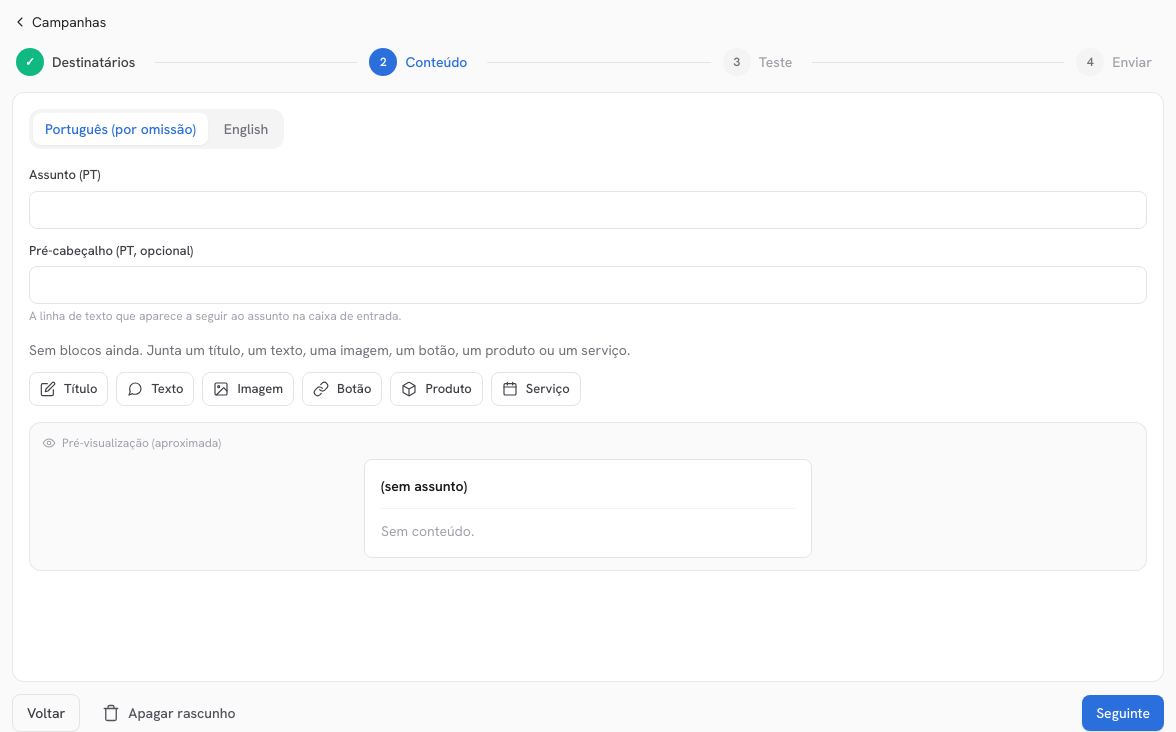
Test case: Nova campanha — passo 2, conteúdo › URL que não é https é recusada no cliente e trava o «Seguinte»
Click the button with aria-label "Adicionar botão". click: (342, 389)
box: left=302, top=372, right=382, bottom=406
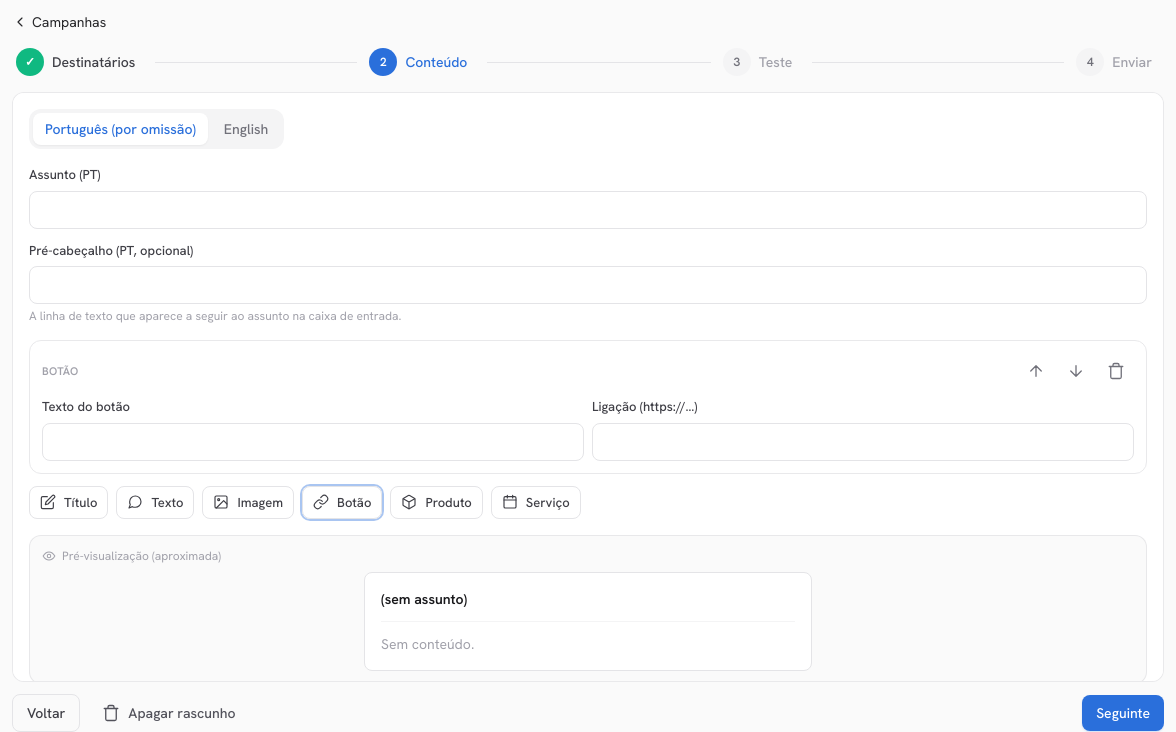
Type "Reservar" into the field labelled "Texto do botão". click: (313, 442)
box: left=42, top=422, right=584, bottom=460
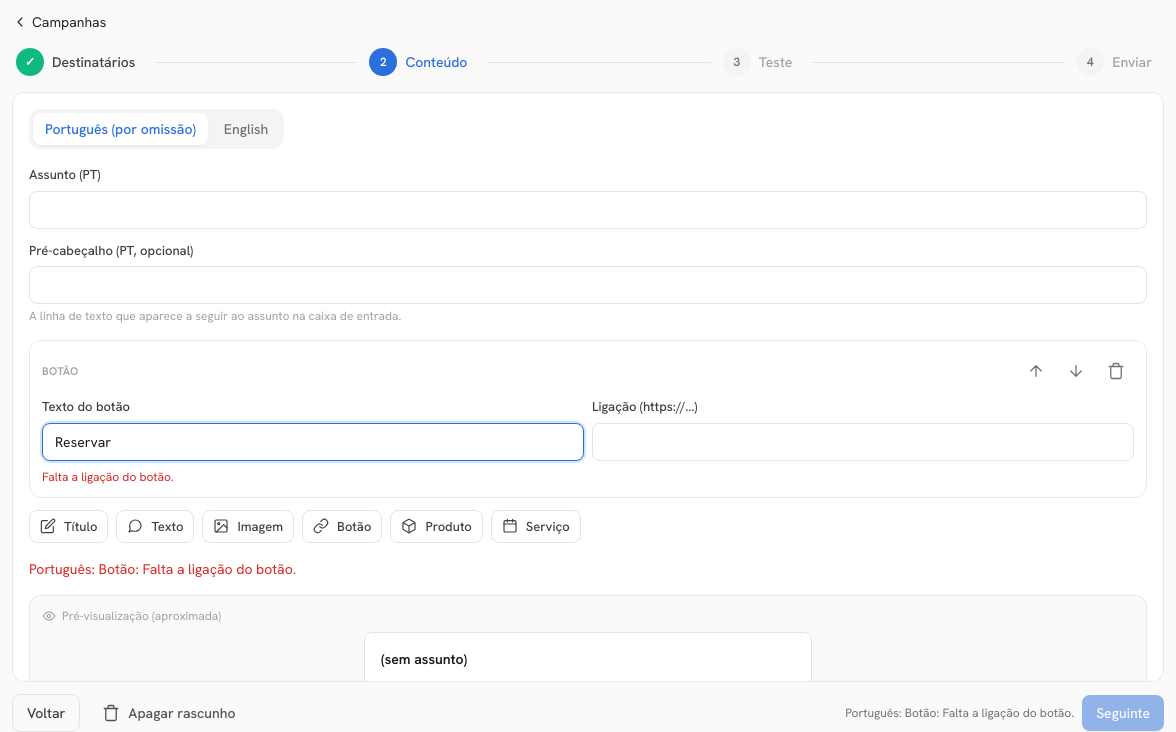
Type "http://exemplo.pt" into the field labelled "Ligação (https://…)". click: (863, 442)
box: left=592, top=422, right=1134, bottom=460
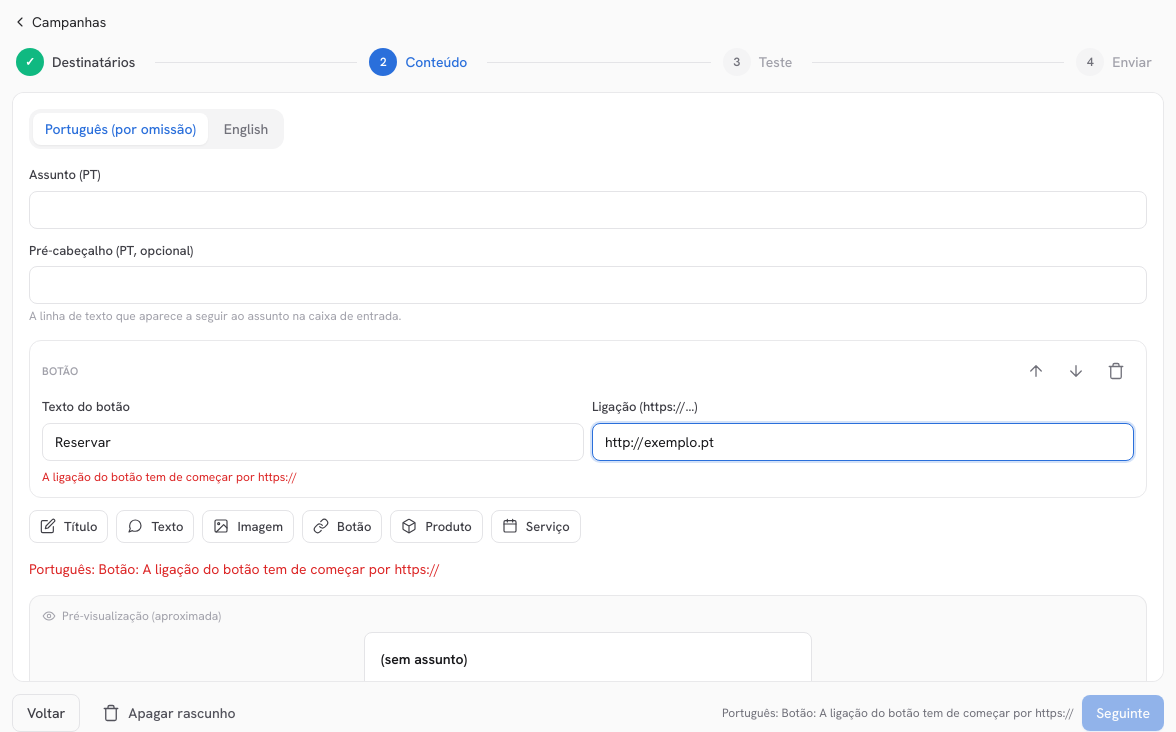
Expected: the button with test id "campaign-next" is disabled, left=1082, top=695, right=1164, bottom=731
Expected: the message with test id "campaign-block-error" shows "https://", left=42, top=468, right=297, bottom=484
Replace the text in the field labelled "Ligação (https://…)" with "javascript:alert(1)". click: (863, 442)
box: left=592, top=422, right=1134, bottom=460
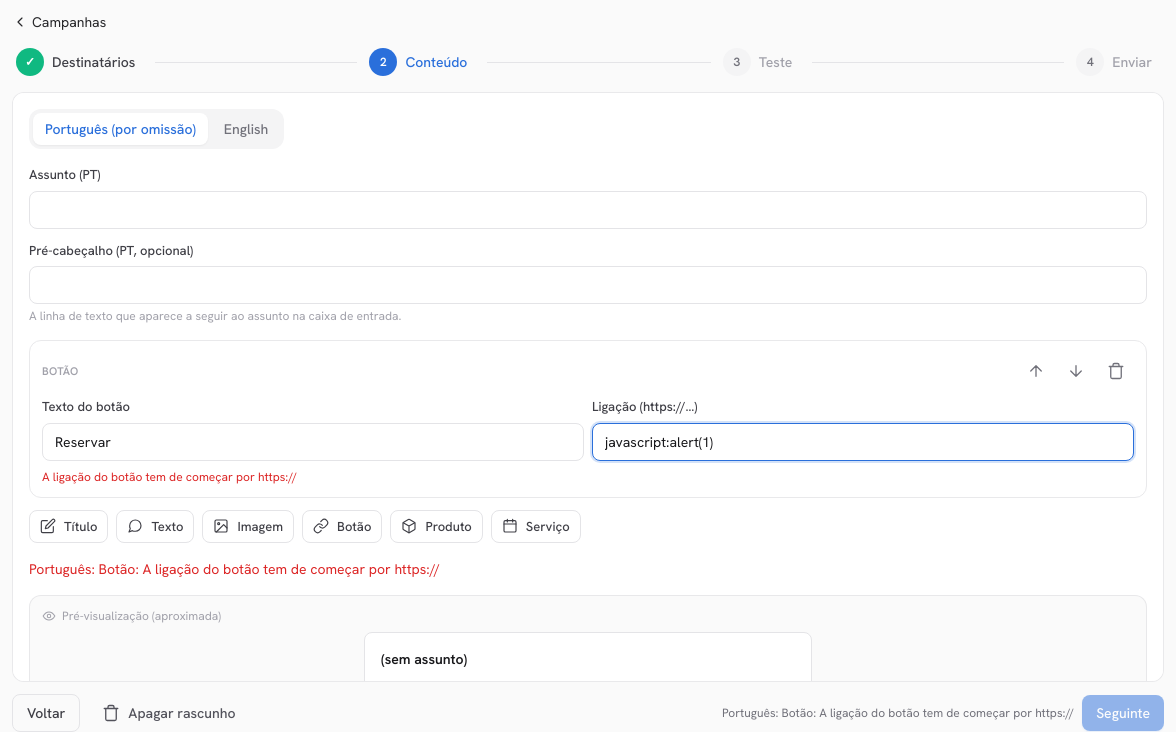
Expected: the message "A ligação do botão tem de começar por https://" is shown, left=42, top=468, right=297, bottom=484
Replace the text in the field labelled "Ligação (https://…)" with "https://exemplo.pt/reservar". click: (863, 442)
box: left=592, top=422, right=1134, bottom=460
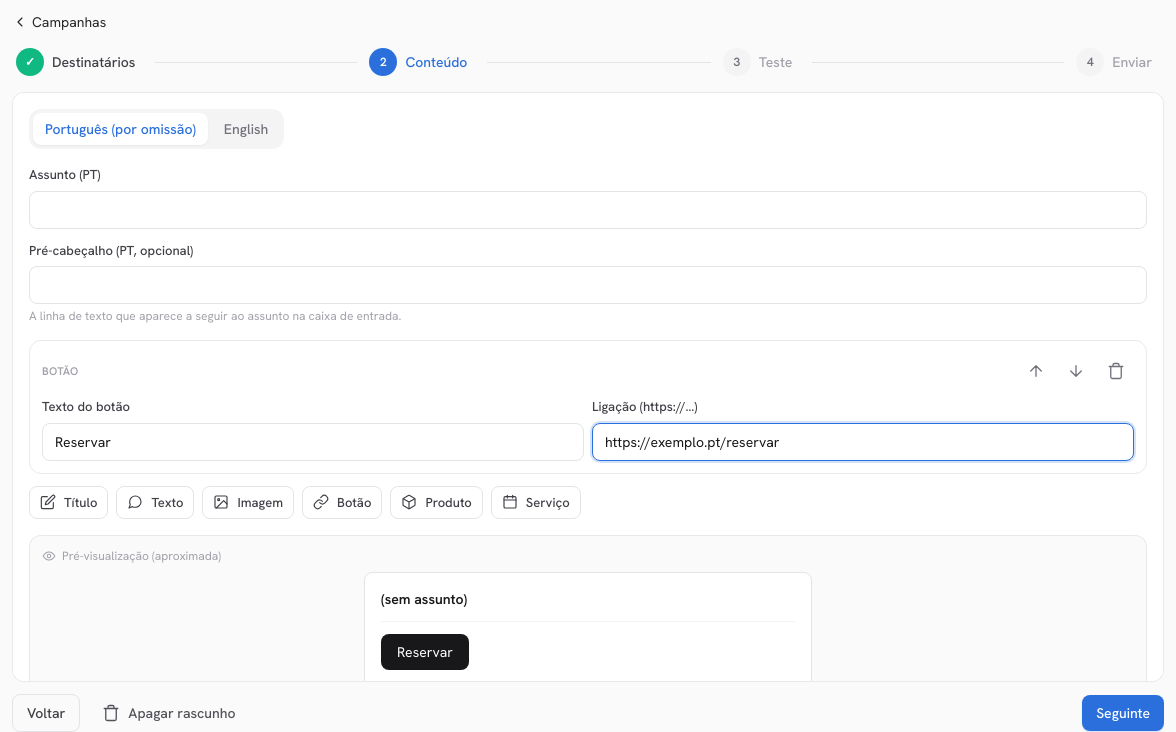
Expected: the message with test id "campaign-block-error" is gone
Expected: the button with test id "campaign-next" is enabled, left=1082, top=695, right=1164, bottom=731
